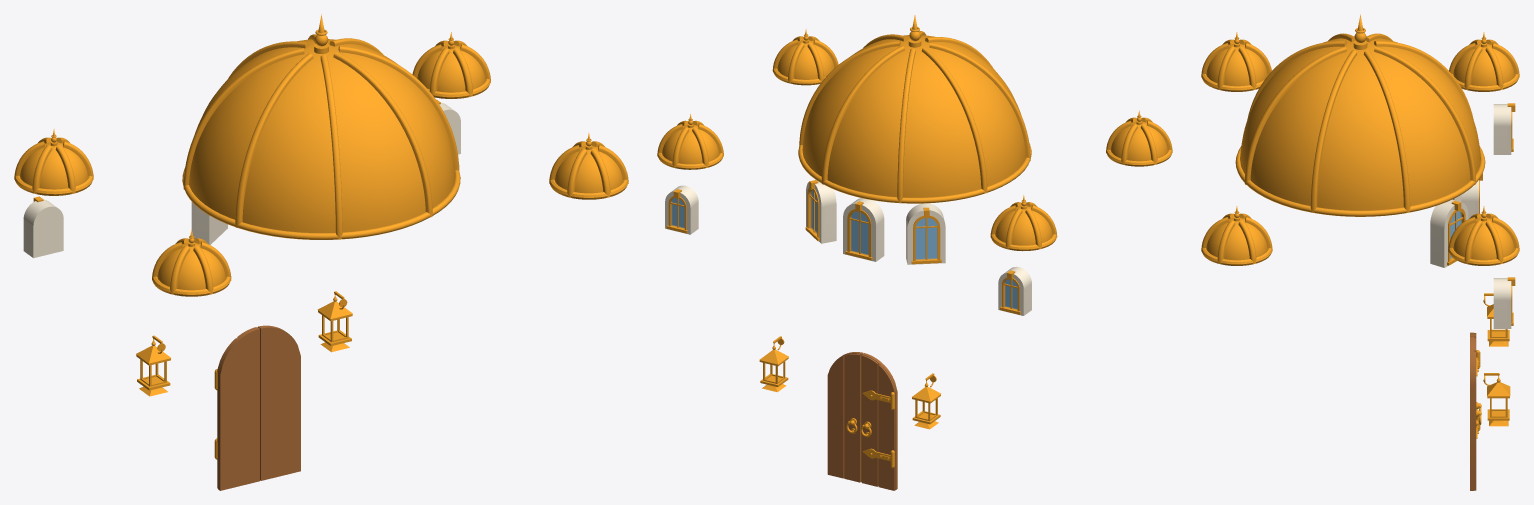
The model's file is HaloDomeHouse_02_ornaments.glb.
3 views of the same model, side by side, from view 1: azimuth 30°, elevation 25°; view 2: azimuth 150°, elevation 25°; view 3: azimuth 270°, elevation 25° (orthographic). The views are drawn at different scales.
Parts seen in each view (by area): view 1: Orn_HaloDomeHouse_02_Dome, Orn_HaloDomeHouse_02_Dome_Ribs, Orn_HaloDomeHouse_02_Leaf0, Orn_HaloDomeHouse_02_Leaf1, Orn_HaloDomeHouse_02_TowerDome0, Orn_HaloDomeHouse_02_TowerDome1, Orn_HaloDomeHouse_02_TowerDome2, Orn_HaloDomeHouse_02_TowerDome3, Orn_HaloDomeHouse_02_TowerWin0_Surround, Orn_HaloDomeHouse_02_TowerDome1_Ribs, Orn_HaloDomeHouse_02_TowerDome0_Ribs, Orn_HaloDomeHouse_02_TowerDome2_Ribs (+4 smaller); view 2: Orn_HaloDomeHouse_02_Dome, Orn_HaloDomeHouse_02_Dome_Ribs, Orn_HaloDomeHouse_02_Leaf1, Orn_HaloDomeHouse_02_Leaf0, Orn_HaloDomeHouse_02_TowerDome3, Orn_HaloDomeHouse_02_TowerDome1, Orn_HaloDomeHouse_02_TowerDome0, Orn_HaloDomeHouse_02_TowerDome2, Orn_HaloDomeHouse_02_DrumWin1_Surround, Orn_HaloDomeHouse_02_DrumWin0_Surround, Orn_HaloDomeHouse_02_TowerDome0_Ribs, Orn_HaloDomeHouse_02_TowerDome3_Ribs (+14 smaller); view 3: Orn_HaloDomeHouse_02_Dome, Orn_HaloDomeHouse_02_Dome_Ribs, Orn_HaloDomeHouse_02_TowerDome2, Orn_HaloDomeHouse_02_TowerDome3, Orn_HaloDomeHouse_02_TowerDome0, Orn_HaloDomeHouse_02_TowerDome1, Orn_HaloDomeHouse_02_DrumWin0_Surround, Orn_HaloDomeHouse_02_TowerDome2_Ribs, Orn_HaloDomeHouse_02_TowerDome3_Ribs, Orn_HaloDomeHouse_02_TowerDome0_Ribs, Orn_HaloDomeHouse_02_TowerDome1_Ribs, Orn_HaloDomeHouse_02_Leaf1 (+6 smaller).
Boxes of the visible parts, x1,y1,x2,y2 form: Orn_HaloDomeHouse_02_Dome: (182, 14, 460, 239); Orn_HaloDomeHouse_02_Dome_Ribs: (183, 34, 459, 239); Orn_HaloDomeHouse_02_Leaf0: (217, 327, 259, 490); Orn_HaloDomeHouse_02_Leaf1: (258, 325, 300, 480); Orn_HaloDomeHouse_02_TowerDome0: (14, 129, 93, 195); Orn_HaloDomeHouse_02_TowerDome1: (152, 229, 231, 296); Orn_HaloDomeHouse_02_TowerDome2: (549, 133, 628, 199); Orn_HaloDomeHouse_02_TowerDome3: (417, 32, 490, 98); Orn_HaloDomeHouse_02_TowerWin0_Surround: (23, 199, 63, 258); Orn_HaloDomeHouse_02_TowerDome1_Ribs: (152, 238, 231, 294); Orn_HaloDomeHouse_02_TowerDome0_Ribs: (14, 137, 93, 193); Orn_HaloDomeHouse_02_TowerDome2_Ribs: (549, 141, 628, 197); Orn_HaloDomeHouse_02_Dome: (798, 15, 1031, 203); Orn_HaloDomeHouse_02_Dome_Ribs: (799, 31, 1030, 202); Orn_HaloDomeHouse_02_Leaf1: (827, 352, 863, 482); Orn_HaloDomeHouse_02_Leaf0: (861, 353, 897, 490); Orn_HaloDomeHouse_02_TowerDome3: (657, 114, 723, 169); Orn_HaloDomeHouse_02_TowerDome1: (1106, 110, 1172, 166); Orn_HaloDomeHouse_02_TowerDome0: (990, 195, 1056, 251); Orn_HaloDomeHouse_02_TowerDome2: (772, 29, 834, 85); Orn_HaloDomeHouse_02_DrumWin1_Surround: (843, 198, 884, 261); Orn_HaloDomeHouse_02_DrumWin0_Surround: (806, 180, 836, 243); Orn_HaloDomeHouse_02_TowerDome0_Ribs: (990, 202, 1057, 249); Orn_HaloDomeHouse_02_TowerDome3_Ribs: (657, 120, 723, 167); Orn_HaloDomeHouse_02_Dome: (1235, 14, 1485, 216); Orn_HaloDomeHouse_02_Dome_Ribs: (1245, 33, 1475, 212); Orn_HaloDomeHouse_02_TowerDome2: (1201, 206, 1272, 265); Orn_HaloDomeHouse_02_TowerDome3: (1448, 206, 1519, 265); Orn_HaloDomeHouse_02_TowerDome0: (1452, 32, 1519, 91); Orn_HaloDomeHouse_02_TowerDome1: (1201, 32, 1268, 91); Orn_HaloDomeHouse_02_DrumWin0_Surround: (1430, 199, 1468, 267); Orn_HaloDomeHouse_02_TowerDome2_Ribs: (1201, 213, 1272, 264); Orn_HaloDomeHouse_02_TowerDome3_Ribs: (1448, 213, 1519, 264); Orn_HaloDomeHouse_02_TowerDome0_Ribs: (1449, 39, 1519, 90); Orn_HaloDomeHouse_02_TowerDome1_Ribs: (1201, 39, 1271, 90); Orn_HaloDomeHouse_02_Leaf1: (1470, 336, 1476, 490).
Size of the model in its own units: 24.64 by 25.85 by 16.24.
